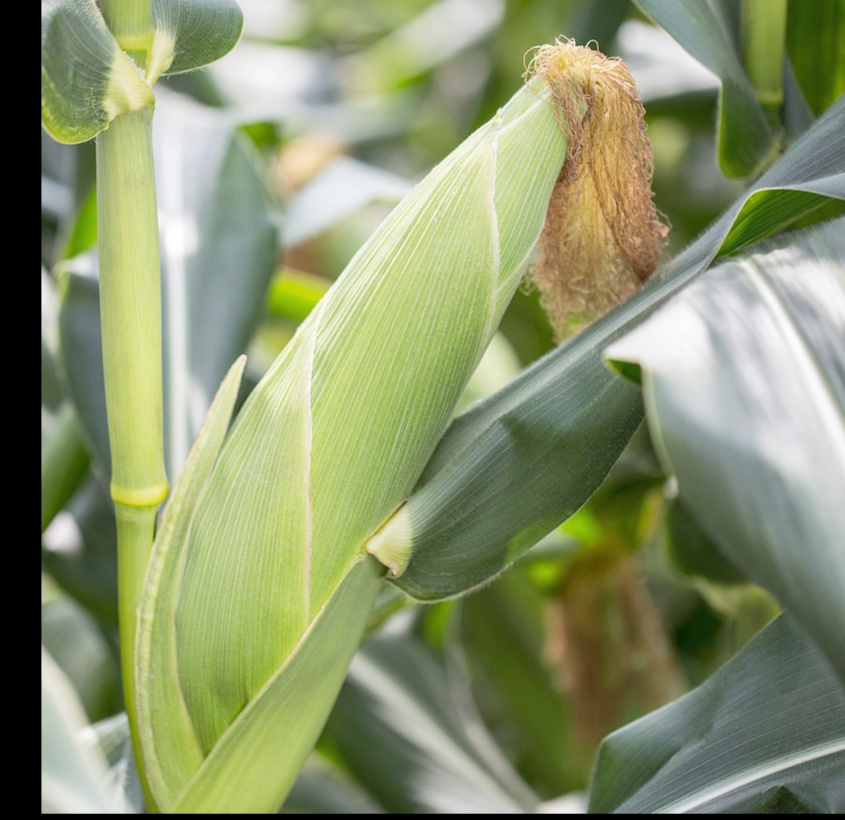corn_plant: (131, 18, 670, 809)
